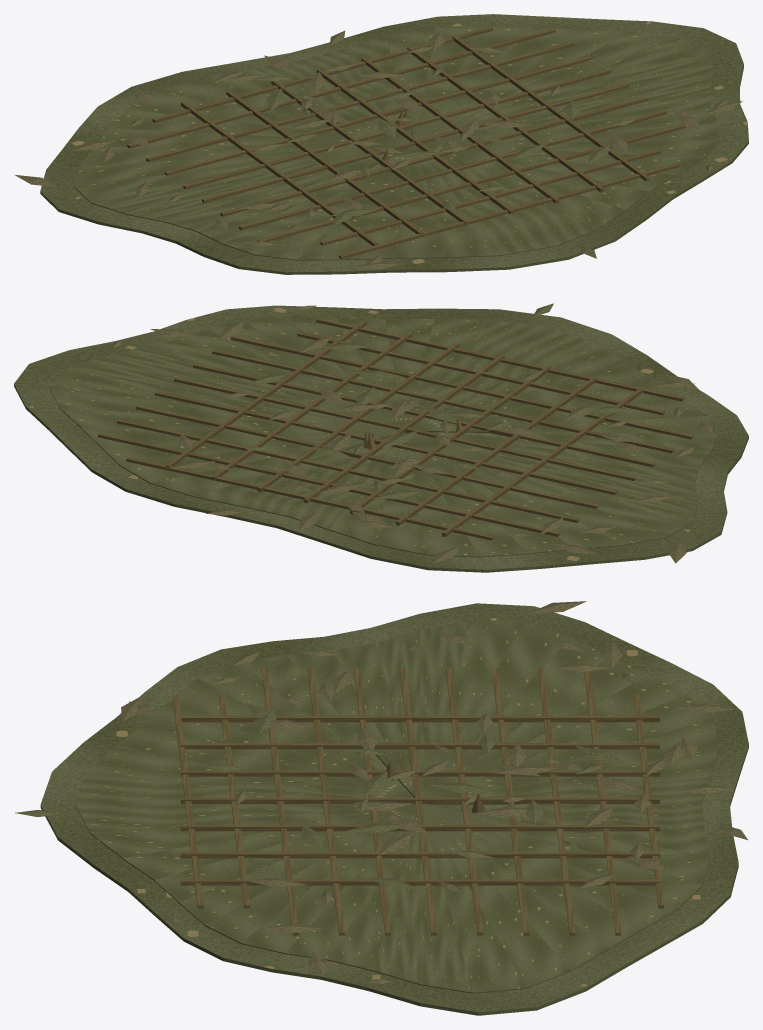
3 renders of one model, top to bottom at view 1: azimuth 30°, elevation 25°; view 2: azimuth 150°, elevation 25°; view 3: azimuth 270°, elevation 25°, orthographic. The views are drawn at different scales.
Parts seen in each view (by area): view 1: garrison_part_0001, garrison_part_0000; view 2: garrison_part_0001, garrison_part_0000; view 3: garrison_part_0001, garrison_part_0000.
Boxes of the visible parts, x1,y1,x2,y2 form: garrison_part_0001: [14, 25, 742, 269]; garrison_part_0000: [40, 14, 748, 274]; garrison_part_0001: [49, 303, 717, 563]; garrison_part_0000: [14, 305, 748, 572]; garrison_part_0001: [15, 601, 747, 993]; garrison_part_0000: [40, 603, 748, 1015].
Bounding box in the file's own units: 640 × 15.96 × 486.
